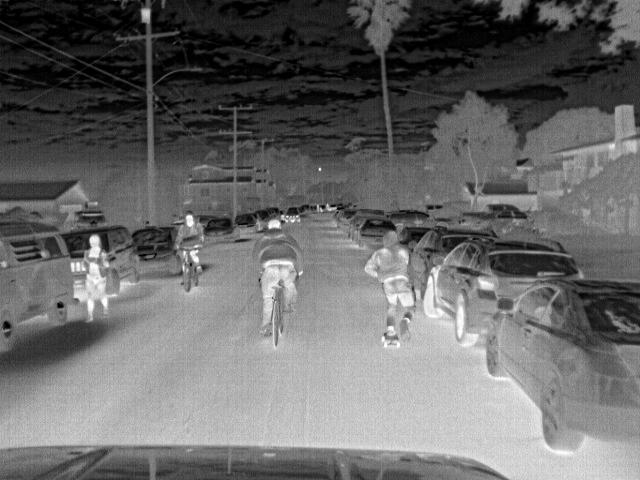car: (483, 278, 638, 456), (427, 237, 582, 347), (1, 222, 77, 353), (60, 222, 145, 297), (412, 225, 497, 294), (131, 222, 177, 280), (459, 200, 519, 232), (384, 210, 452, 232), (349, 208, 386, 244), (476, 208, 532, 231), (360, 218, 399, 250), (207, 218, 238, 246), (233, 211, 260, 236), (74, 210, 108, 228), (336, 208, 358, 230)
person: (362, 229, 418, 341), (251, 218, 298, 338), (81, 234, 110, 326), (172, 213, 206, 274)
